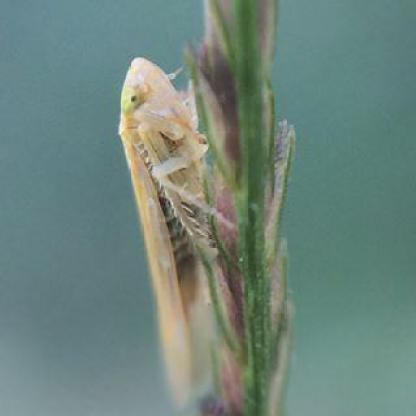green-leafhopper: (118, 48, 224, 404)
